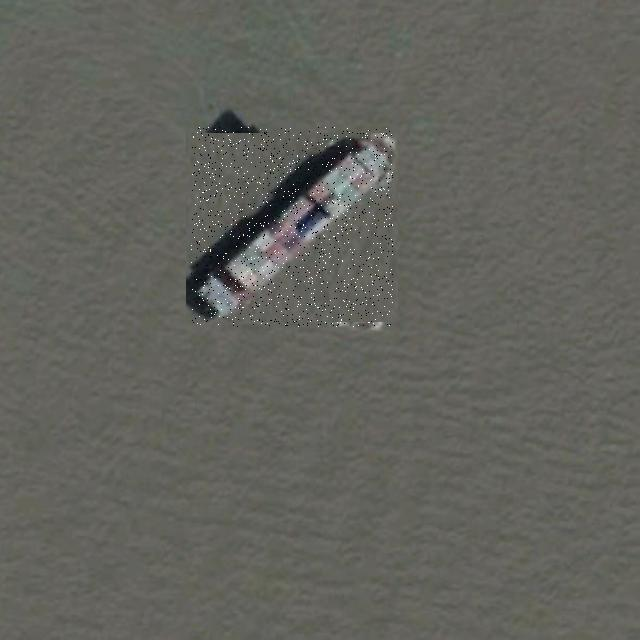boat: (191, 127, 393, 327)
